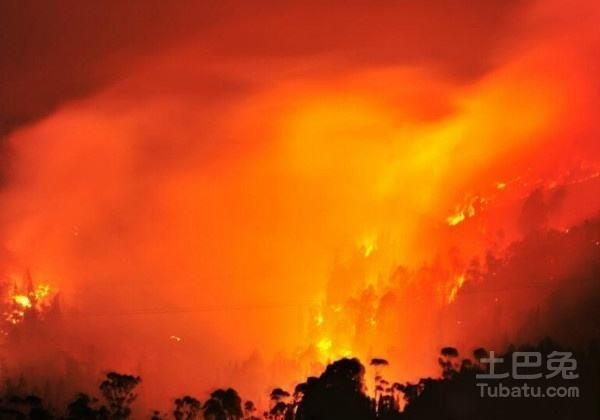fire: (291, 179, 513, 384), (3, 254, 58, 334)
